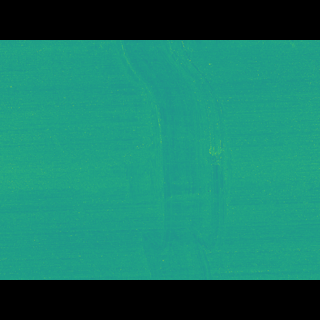Loch: (93, 70, 239, 250)
